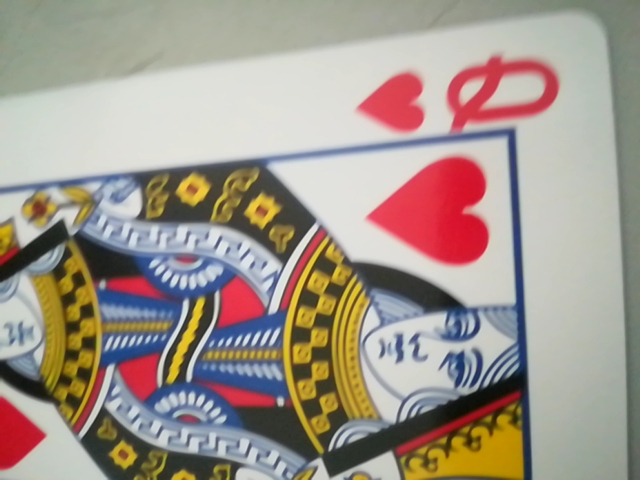hx q: (356, 50, 561, 143)
